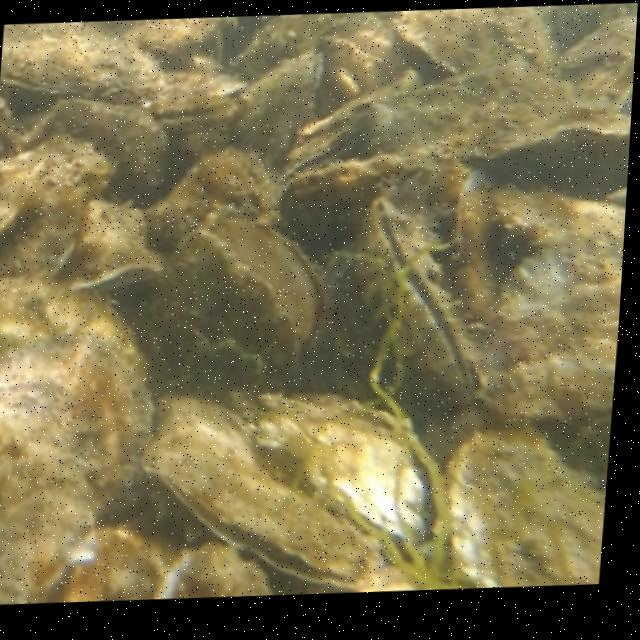Oyster-Closed: (145, 394, 382, 589), (226, 392, 449, 550), (350, 199, 483, 400), (0, 21, 162, 103), (231, 49, 323, 165), (33, 527, 169, 603), (464, 108, 631, 165), (284, 161, 390, 248), (278, 113, 369, 195), (140, 60, 249, 127), (158, 538, 275, 599), (67, 248, 165, 293)
Oyster-Indeterminate: (0, 277, 153, 604), (445, 430, 605, 587), (502, 239, 623, 419), (365, 60, 581, 159), (223, 10, 407, 118), (0, 134, 116, 279), (24, 97, 171, 205), (142, 146, 281, 252), (460, 162, 550, 324), (383, 5, 560, 81), (496, 183, 626, 254), (560, 15, 637, 112), (80, 201, 147, 273), (0, 150, 44, 242), (135, 16, 224, 55)
Oyster-Open: (147, 220, 327, 393)
